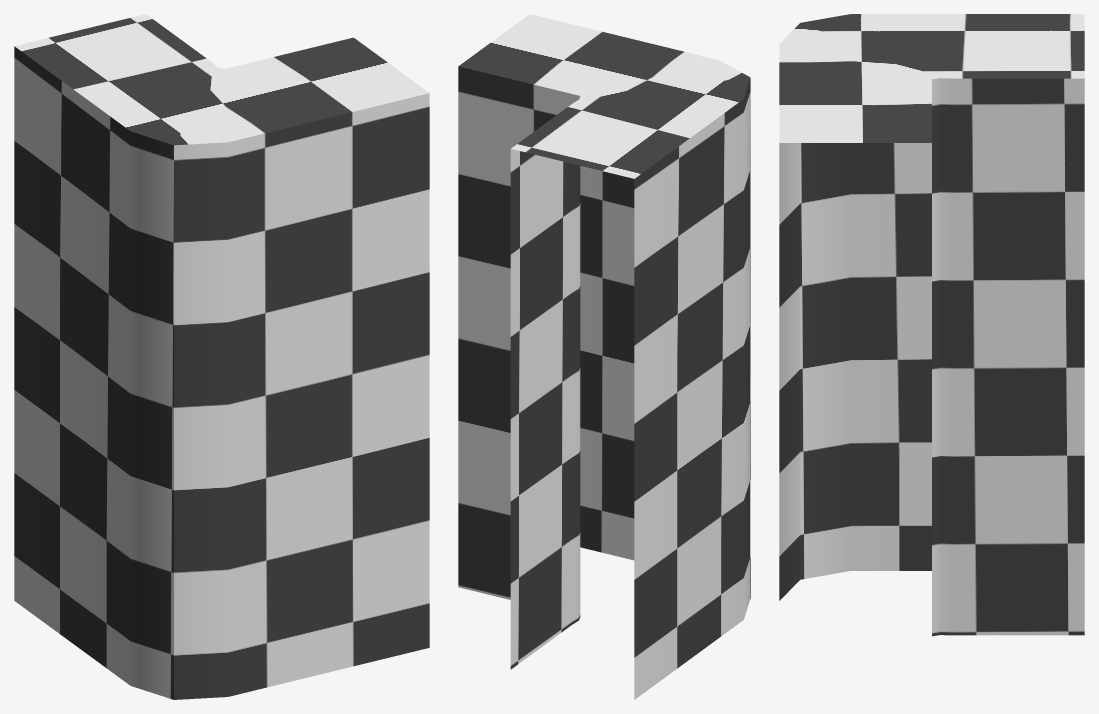
Rendered from Angle_Front_Left.fbx.
The picture shows the model from 3 angles, left to right: view 1: azimuth 30°, elevation 25°; view 2: azimuth 150°, elevation 25°; view 3: azimuth 270°, elevation 25°; orthographic projection. The views are drawn at different scales.
Visible parts, largest first — view 1: Angle_Front_Left; view 2: Angle_Front_Left; view 3: Angle_Front_Left.
Part boxes in pixels (bbox=[...]): Angle_Front_Left: bbox=[14, 14, 429, 699]; Angle_Front_Left: bbox=[458, 14, 750, 699]; Angle_Front_Left: bbox=[779, 14, 1084, 636].
Size of the model in its own units: 100 by 201 by 100.
